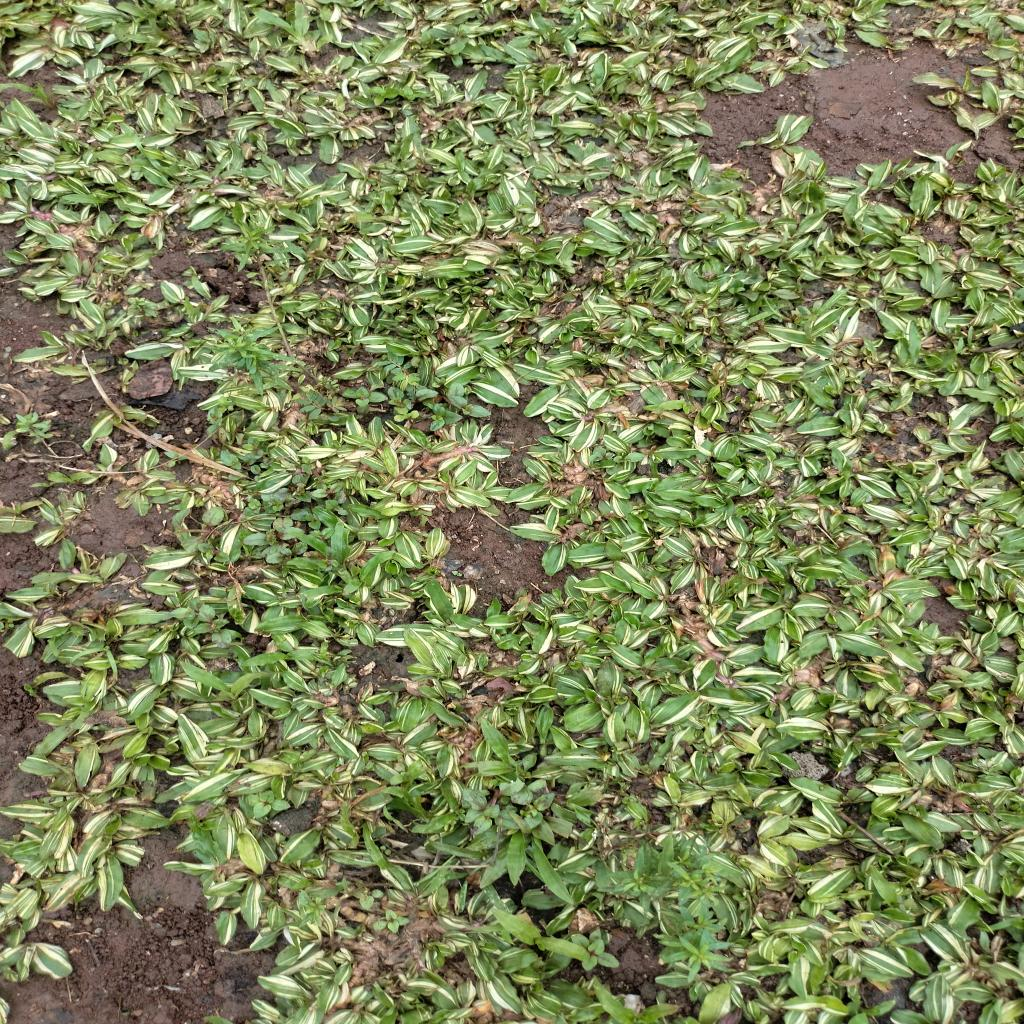akar wangi: (598, 830, 744, 984), (202, 314, 300, 394), (220, 213, 296, 279), (13, 408, 64, 448)
bayi: (446, 567, 465, 580), (6, 618, 17, 628), (452, 79, 464, 86), (540, 580, 550, 584)
buah daun: (376, 347, 427, 388), (292, 386, 348, 418)
rambat atas: (803, 287, 852, 342), (66, 643, 128, 681), (740, 296, 794, 327)
rambat bawah: (473, 832, 581, 911), (488, 904, 588, 966), (172, 658, 288, 704), (253, 0, 337, 59), (288, 524, 358, 586), (476, 713, 530, 777), (236, 645, 340, 672), (0, 79, 61, 116), (868, 862, 906, 911), (654, 394, 700, 416)
ungu tunggang: (248, 457, 356, 567), (343, 384, 495, 432), (456, 776, 555, 839), (171, 598, 246, 654), (352, 883, 416, 937), (214, 435, 280, 486), (567, 927, 624, 976), (194, 503, 233, 564), (428, 24, 473, 68), (241, 785, 294, 818)
